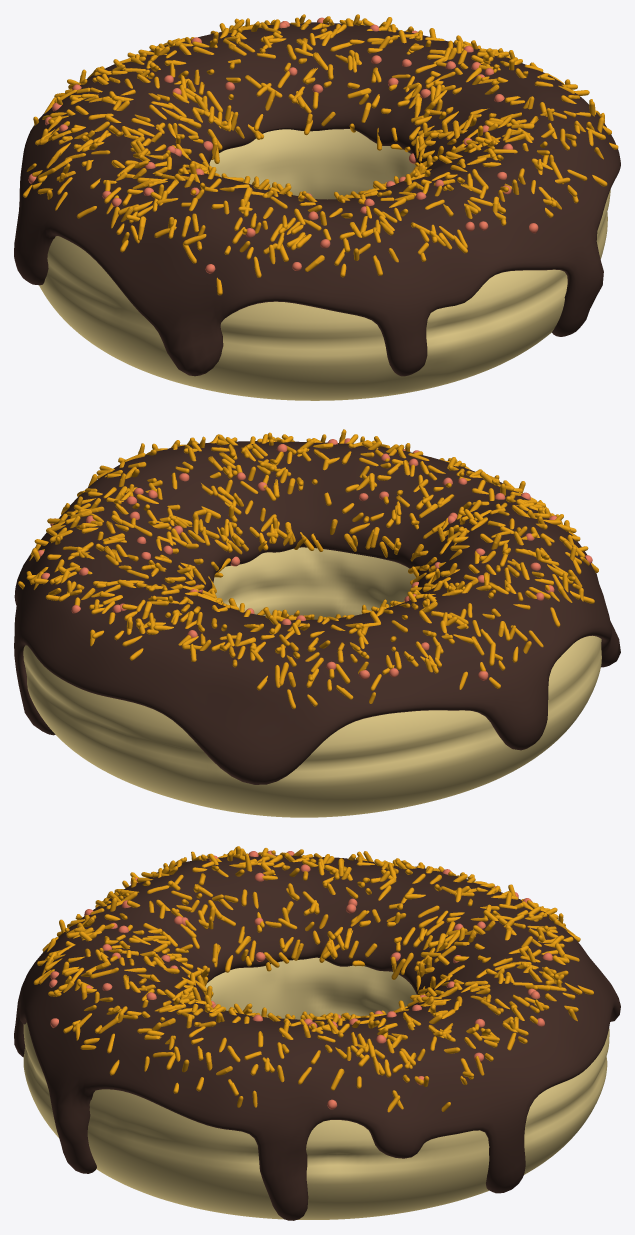
Rendered from DONUT.fbx.
3 renders of one model, top to bottom at view 1: azimuth 30°, elevation 25°; view 2: azimuth 150°, elevation 25°; view 3: azimuth 270°, elevation 25°, orthographic.
Parts seen in each view (by area): view 1: icing, donut; view 2: icing, donut; view 3: icing, donut.
Part boxes in pixels (x1,y1,x2,y2): icing: (14, 22, 620, 376); donut: (39, 129, 610, 400); icing: (14, 441, 620, 784); donut: (23, 547, 601, 817); icing: (14, 855, 620, 1220); donut: (23, 957, 609, 1219).
Bounding box in the file's own units: 15.3 × 5.75 × 15.57.
